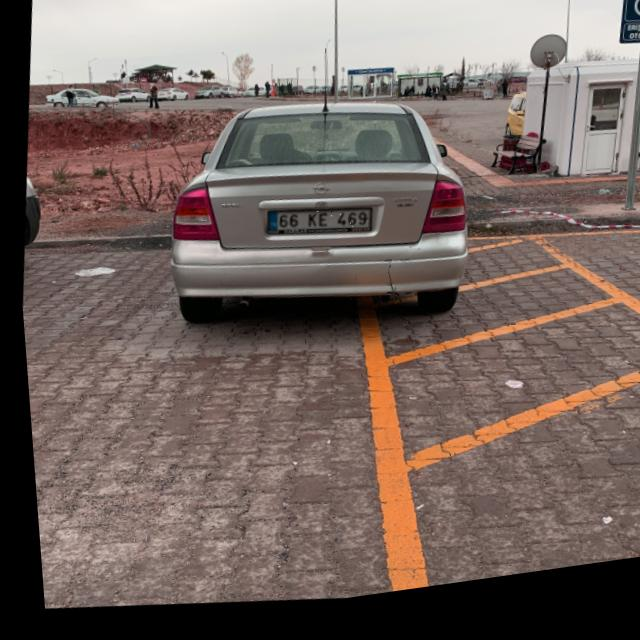license_plate: (262, 208, 369, 249)
